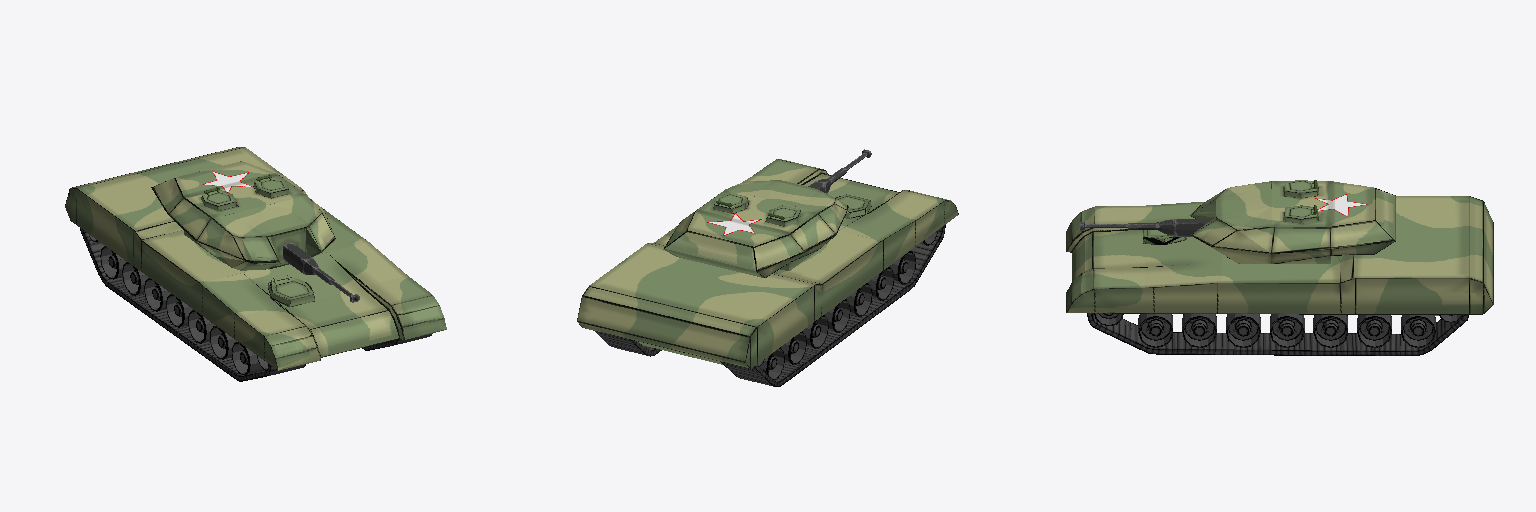
3 views of the same model, side by side, from view 1: azimuth 30°, elevation 25°; view 2: azimuth 150°, elevation 25°; view 3: azimuth 270°, elevation 25° (orthographic).
Visible parts, largest first — view 1: Plane.055_Plane.080; view 2: Plane.055_Plane.080; view 3: Plane.055_Plane.080.
Boxes of the visible parts, <box> form: Plane.055_Plane.080: <box>65,147,446,381</box>; Plane.055_Plane.080: <box>577,149,958,386</box>; Plane.055_Plane.080: <box>1066,180,1493,355</box>.
Bounding box in the file's own units: 1.27 × 0.8749 × 2.79.
Materials: 1 (1 with a texture image).